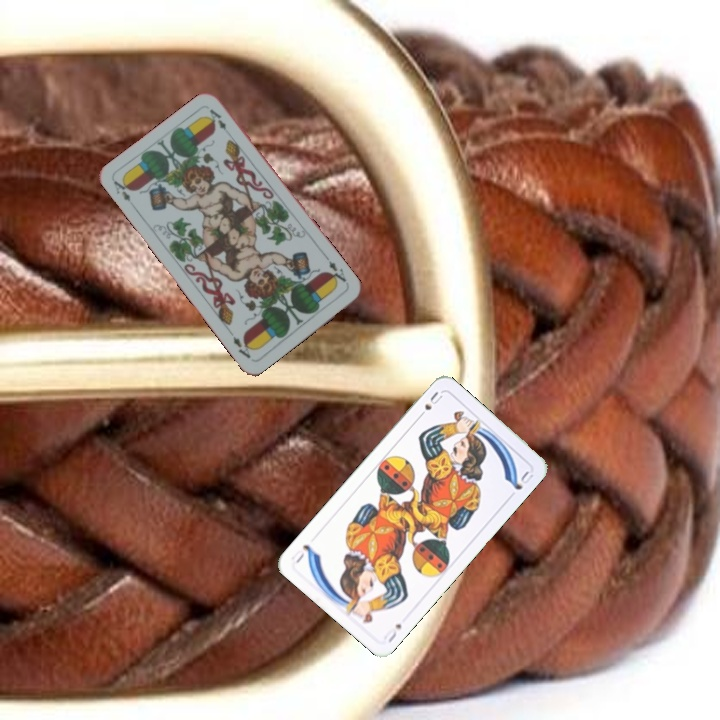EA: (321, 252, 351, 288), (110, 175, 134, 204)
SU: (414, 387, 446, 422), (379, 619, 404, 645)
